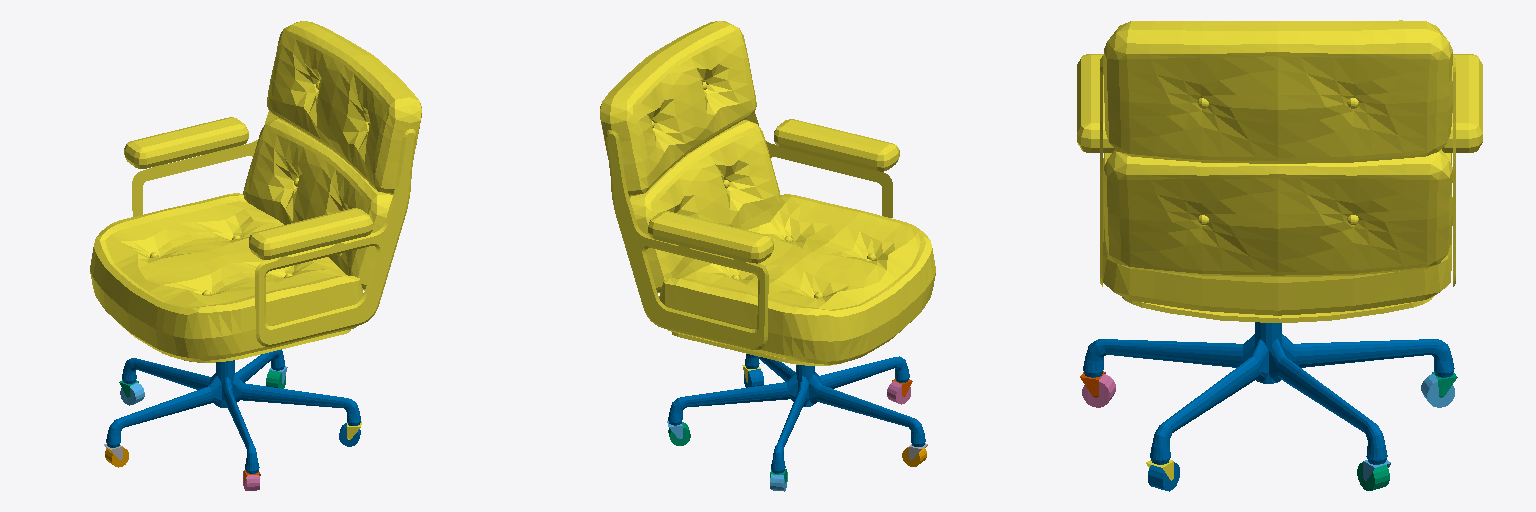
The robot description file, URDF, robot "partnet_a33fcf84726cd862d866e3aa112e4663":
<?xml version="1.0" encoding="utf-8"?>
<robot name="partnet_a33fcf84726cd862d866e3aa112e4663">
 <link name="base"/>
 <link name="link_0">
  <visual name="caster_stem-34">
   <origin xyz="0.26527999999999996 0 0.220503"/>
   <geometry>
    <mesh filename="textured_objs/original-11.obj"/>
   </geometry>
  </visual>
  <collision>
   <geometry>
    <mesh filename="cvx_objs/link_0.obj"/>
   </geometry>
  </collision>
 </link>
 <joint name="joint_0" type="continuous">
  <origin xyz="-0.26527999999999996 0 -0.220503"/>
  <axis xyz="0 1 0"/>
  <child link="link_0"/>
  <parent link="link_11"/>
 </joint>
 <link name="link_1">
  <visual name="wheel-35">
   <origin xyz="0.1804072528569437 0.7323625 0.25773058044729175"/>
   <geometry>
    <mesh filename="textured_objs/original-17.obj"/>
   </geometry>
  </visual>
  <collision>
   <geometry>
    <mesh filename="cvx_objs/link_1.obj"/>
   </geometry>
  </collision>
 </link>
 <joint name="joint_1" type="continuous">
  <origin xyz="0.08487274714305626 -0.7323625 -0.03722758044729174"/>
  <axis xyz="-0.8192381052209088 0 0.5734535089735308"/>
  <child link="link_1"/>
  <parent link="link_0"/>
 </joint>
 <link name="link_2">
  <visual name="caster_stem-32">
   <origin xyz="-0.322162 0 0.220503"/>
   <geometry>
    <mesh filename="textured_objs/original-8.obj"/>
   </geometry>
  </visual>
  <collision>
   <geometry>
    <mesh filename="cvx_objs/link_2.obj"/>
   </geometry>
  </collision>
 </link>
 <joint name="joint_2" type="continuous">
  <origin xyz="0.322162 0 -0.220503"/>
  <axis xyz="0 1 0"/>
  <child link="link_2"/>
  <parent link="link_11"/>
 </joint>
 <link name="link_3">
  <visual name="wheel-33">
   <origin xyz="-0.2110717855963781 0.7323625 0.2814667373530247"/>
   <geometry>
    <mesh filename="textured_objs/original-14.obj"/>
   </geometry>
  </visual>
  <collision>
   <geometry>
    <mesh filename="cvx_objs/link_3.obj"/>
   </geometry>
  </collision>
 </link>
 <joint name="joint_3" type="continuous">
  <origin xyz="-0.1110902144036219 -0.7323625 -0.06096373735302468"/>
  <axis xyz="-0.8000385699131759 0 -0.5999485700051966"/>
  <child link="link_3"/>
  <parent link="link_2"/>
 </joint>
 <link name="link_4">
  <visual name="caster_stem-30">
   <origin xyz="-0.503871 0 -0.338314"/>
   <geometry>
    <mesh filename="textured_objs/original-9.obj"/>
   </geometry>
  </visual>
  <collision>
   <geometry>
    <mesh filename="cvx_objs/link_4.obj"/>
   </geometry>
  </collision>
 </link>
 <joint name="joint_4" type="continuous">
  <origin xyz="0.503871 0 0.338314"/>
  <axis xyz="0 1 0"/>
  <child link="link_4"/>
  <parent link="link_11"/>
 </joint>
 <link name="link_5">
  <visual name="wheel-31">
   <origin xyz="-0.5380192715980543 0.7323625 -0.17933976846705507"/>
   <geometry>
    <mesh filename="textured_objs/original-15.obj"/>
   </geometry>
  </visual>
  <collision>
   <geometry>
    <mesh filename="cvx_objs/link_5.obj"/>
   </geometry>
  </collision>
 </link>
 <joint name="joint_5" type="continuous">
  <origin xyz="0.034148271598054336 -0.7323625 -0.15897423153294493"/>
  <axis xyz="0.3162277660168369 0 -0.9486832980505142"/>
  <child link="link_5"/>
  <parent link="link_4"/>
 </joint>
 <link name="link_6">
  <visual name="caster_stem-28">
   <origin xyz="-0.028440999999999998 0 -0.683685"/>
   <geometry>
    <mesh filename="textured_objs/original-10.obj"/>
   </geometry>
  </visual>
  <collision>
   <geometry>
    <mesh filename="cvx_objs/link_6.obj"/>
   </geometry>
  </collision>
 </link>
 <joint name="joint_6" type="continuous">
  <origin xyz="0.028440999999999998 0 0.683685"/>
  <axis xyz="0 1 0"/>
  <child link="link_6"/>
  <parent link="link_11"/>
 </joint>
 <link name="link_7">
  <visual name="wheel-29">
   <origin xyz="0 0.7323625 -0.665846004274913"/>
   <geometry>
    <mesh filename="textured_objs/original-16.obj"/>
   </geometry>
  </visual>
  <collision>
   <geometry>
    <mesh filename="cvx_objs/link_7.obj"/>
   </geometry>
  </collision>
 </link>
 <joint name="joint_7" type="continuous">
  <origin xyz="-0.028440999999999998 -0.7323625 -0.01783899572508696"/>
  <axis xyz="1 0 0"/>
  <child link="link_7"/>
  <parent link="link_6"/>
 </joint>
 <link name="link_8">
  <visual name="wheel-26">
   <origin xyz="0.48682547228628265 0.7323625 -0.162275167624316"/>
   <geometry>
    <mesh filename="textured_objs/original-18.obj"/>
   </geometry>
  </visual>
  <collision>
   <geometry>
    <mesh filename="cvx_objs/link_8.obj"/>
   </geometry>
  </collision>
 </link>
 <joint name="joint_8" type="continuous">
  <origin xyz="-0.039836472286282676 -0.7323625 -0.176038832375684"/>
  <axis xyz="0.316227766016838 0 0.9486832980505139"/>
  <child link="link_8"/>
  <parent link="link_9"/>
 </joint>
 <link name="link_9">
  <visual name="caster_stem-27">
   <origin xyz="0.44698899999999997 0 -0.338314"/>
   <geometry>
    <mesh filename="textured_objs/original-12.obj"/>
   </geometry>
  </visual>
  <collision>
   <geometry>
    <mesh filename="cvx_objs/link_9.obj"/>
   </geometry>
  </collision>
 </link>
 <joint name="joint_9" type="continuous">
  <origin xyz="-0.44698899999999997 0 0.338314"/>
  <axis xyz="0 1 0"/>
  <child link="link_9"/>
  <parent link="link_11"/>
 </joint>
 <link name="link_10">
  <visual name="back_soft_surface-54">
   <origin xyz="-0.026605842262506466 0 -0.18576659771800028"/>
   <geometry>
    <mesh filename="textured_objs/original-28.obj"/>
   </geometry>
  </visual>
  <visual name="back_soft_surface-54">
   <origin xyz="-0.026605842262506466 0 -0.18576659771800028"/>
   <geometry>
    <mesh filename="textured_objs/original-29.obj"/>
   </geometry>
  </visual>
  <visual name="back_soft_surface-54">
   <origin xyz="-0.026605842262506466 0 -0.18576659771800028"/>
   <geometry>
    <mesh filename="textured_objs/original-30.obj"/>
   </geometry>
  </visual>
  <visual name="back_soft_surface-54">
   <origin xyz="-0.026605842262506466 0 -0.18576659771800028"/>
   <geometry>
    <mesh filename="textured_objs/original-41.obj"/>
   </geometry>
  </visual>
  <visual name="back_soft_surface-54">
   <origin xyz="-0.026605842262506466 0 -0.18576659771800028"/>
   <geometry>
    <mesh filename="textured_objs/original-33.obj"/>
   </geometry>
  </visual>
  <visual name="back_soft_surface-54">
   <origin xyz="-0.026605842262506466 0 -0.18576659771800028"/>
   <geometry>
    <mesh filename="textured_objs/original-38.obj"/>
   </geometry>
  </visual>
  <visual name="back_soft_surface-54">
   <origin xyz="-0.026605842262506466 0 -0.18576659771800028"/>
   <geometry>
    <mesh filename="textured_objs/original-31.obj"/>
   </geometry>
  </visual>
  <visual name="back_soft_surface-54">
   <origin xyz="-0.026605842262506466 0 -0.18576659771800028"/>
   <geometry>
    <mesh filename="textured_objs/original-40.obj"/>
   </geometry>
  </visual>
  <visual name="back_soft_surface-54">
   <origin xyz="-0.026605842262506466 0 -0.18576659771800028"/>
   <geometry>
    <mesh filename="textured_objs/original-39.obj"/>
   </geometry>
  </visual>
  <visual name="back_soft_surface-54">
   <origin xyz="-0.026605842262506466 0 -0.18576659771800028"/>
   <geometry>
    <mesh filename="textured_objs/original-32.obj"/>
   </geometry>
  </visual>
  <visual name="back_frame_vertical_bar-50">
   <origin xyz="-0.026605842262506466 0 -0.18576659771800028"/>
   <geometry>
    <mesh filename="textured_objs/new-9.obj"/>
   </geometry>
  </visual>
  <visual name="back_frame_vertical_bar-51">
   <origin xyz="-0.026605842262506466 0 -0.18576659771800028"/>
   <geometry>
    <mesh filename="textured_objs/new-11.obj"/>
   </geometry>
  </visual>
  <visual name="armrest_soft_surface-45">
   <origin xyz="-0.026605842262506466 0 -0.18576659771800028"/>
   <geometry>
    <mesh filename="textured_objs/original-23.obj"/>
   </geometry>
  </visual>
  <visual name="arm_vertical_bar-46">
   <origin xyz="-0.026605842262506466 0 -0.18576659771800028"/>
   <geometry>
    <mesh filename="textured_objs/new-13.obj"/>
   </geometry>
  </visual>
  <visual name="arm_horizontal_bar-47">
   <origin xyz="-0.026605842262506466 0 -0.18576659771800028"/>
   <geometry>
    <mesh filename="textured_objs/new-12.obj"/>
   </geometry>
  </visual>
  <visual name="arm_horizontal_bar-47">
   <origin xyz="-0.026605842262506466 0 -0.18576659771800028"/>
   <geometry>
    <mesh filename="textured_objs/original-25.obj"/>
   </geometry>
  </visual>
  <visual name="arm_horizontal_bar-47">
   <origin xyz="-0.026605842262506466 0 -0.18576659771800028"/>
   <geometry>
    <mesh filename="textured_objs/original-24.obj"/>
   </geometry>
  </visual>
  <visual name="armrest_soft_surface-42">
   <origin xyz="-0.026605842262506466 0 -0.18576659771800028"/>
   <geometry>
    <mesh filename="textured_objs/original-22.obj"/>
   </geometry>
  </visual>
  <visual name="arm_vertical_bar-43">
   <origin xyz="-0.026605842262506466 0 -0.18576659771800028"/>
   <geometry>
    <mesh filename="textured_objs/new-7.obj"/>
   </geometry>
  </visual>
  <visual name="arm_horizontal_bar-44">
   <origin xyz="-0.026605842262506466 0 -0.18576659771800028"/>
   <geometry>
    <mesh filename="textured_objs/new-8.obj"/>
   </geometry>
  </visual>
  <visual name="seat_soft_surface-38">
   <origin xyz="-0.026605842262506466 0 -0.18576659771800028"/>
   <geometry>
    <mesh filename="textured_objs/original-34.obj"/>
   </geometry>
  </visual>
  <visual name="seat_soft_surface-38">
   <origin xyz="-0.026605842262506466 0 -0.18576659771800028"/>
   <geometry>
    <mesh filename="textured_objs/original-35.obj"/>
   </geometry>
  </visual>
  <visual name="seat_soft_surface-38">
   <origin xyz="-0.026605842262506466 0 -0.18576659771800028"/>
   <geometry>
    <mesh filename="textured_objs/original-36.obj"/>
   </geometry>
  </visual>
  <visual name="seat_soft_surface-38">
   <origin xyz="-0.026605842262506466 0 -0.18576659771800028"/>
   <geometry>
    <mesh filename="textured_objs/original-37.obj"/>
   </geometry>
  </visual>
  <visual name="seat_soft_surface-38">
   <origin xyz="-0.026605842262506466 0 -0.18576659771800028"/>
   <geometry>
    <mesh filename="textured_objs/original-20.obj"/>
   </geometry>
  </visual>
  <visual name="seat_support-37">
   <origin xyz="-0.026605842262506466 0 -0.18576659771800028"/>
   <geometry>
    <mesh filename="textured_objs/original-42.obj"/>
   </geometry>
  </visual>
  <visual name="seat_frame_vertical_bar-40">
   <origin xyz="-0.026605842262506466 0 -0.18576659771800028"/>
   <geometry>
    <mesh filename="textured_objs/new-10.obj"/>
   </geometry>
  </visual>
  <visual name="seat_frame_vertical_bar-41">
   <origin xyz="-0.026605842262506466 0 -0.18576659771800028"/>
   <geometry>
    <mesh filename="textured_objs/new-6.obj"/>
   </geometry>
  </visual>
  <visual name="central_support-11">
   <origin xyz="-0.026605842262506466 0 -0.18576659771800028"/>
   <geometry>
    <mesh filename="textured_objs/original-7.obj"/>
   </geometry>
  </visual>
  <visual name="seat_connector-13">
   <origin xyz="-0.026605842262506466 0 -0.18576659771800028"/>
   <geometry>
    <mesh filename="textured_objs/original-21.obj"/>
   </geometry>
  </visual>
  <collision>
   <geometry>
    <mesh filename="cvx_objs/link_10.obj"/>
   </geometry>
  </collision>
 </link>
 <joint name="joint_10" type="continuous">
  <origin xyz="0.0 0 0.0"/>
  <axis xyz="0 1 0"/>
  <child link="link_10"/>
  <parent link="link_10_helper"/>
 </joint>
 <link name="link_11">
  <visual name="central_support-10">
   <origin xyz="0 0 0"/>
   <geometry>
    <mesh filename="textured_objs/new-5.obj"/>
   </geometry>
  </visual>
  <visual name="leg-14">
   <origin xyz="0 0 0"/>
   <geometry>
    <mesh filename="textured_objs/new-4.obj"/>
   </geometry>
  </visual>
  <visual name="leg-15">
   <origin xyz="0 0 0"/>
   <geometry>
    <mesh filename="textured_objs/new-3.obj"/>
   </geometry>
  </visual>
  <visual name="leg-16">
   <origin xyz="0 0 0"/>
   <geometry>
    <mesh filename="textured_objs/new-2.obj"/>
   </geometry>
  </visual>
  <visual name="leg-17">
   <origin xyz="0 0 0"/>
   <geometry>
    <mesh filename="textured_objs/new-1.obj"/>
   </geometry>
  </visual>
  <visual name="leg-18">
   <origin xyz="0 0 0"/>
   <geometry>
    <mesh filename="textured_objs/new-0.obj"/>
   </geometry>
  </visual>
  <collision>
   <geometry>
    <mesh filename="cvx_objs/link_11.obj"/>
   </geometry>
  </collision>
 </link>
 <joint name="joint_11" type="fixed">
  <origin rpy="1.570796326794897 0 -1.570796326794897" xyz="0 0 0"/>
  <child link="link_11"/>
  <parent link="base"/>
 </joint>
 <link name="link_10_helper"/>
 <joint name="joint_12" type="prismatic">
  <origin xyz="0.026605842262506466 0 0.18576659771800028"/>
  <axis xyz="0 -1 0"/>
  <child link="link_10_helper"/>
  <parent link="link_11"/>
  <limit lower="0" upper="0.06000000000000005"/>
 </joint>
</robot>

--- What the picture shows (computed from the rendered views, not written in the file) ---
3 views of the same robot in one strip: view 1: azimuth 30°, elevation 25°; view 2: azimuth 150°, elevation 25°; view 3: azimuth 270°, elevation 25° (orthographic).
Model partnet_a33fcf84726cd862d866e3aa112e4663 with 14 links and 13 joints (11 continuous, 1 prismatic, 1 fixed), rooted at base, posed all joints at 0.
Links seen in each view (by area): view 1: link_10, link_11; view 2: link_10, link_11; view 3: link_10, link_11, link_8, link_5, link_3, link_1.
Link boxes in pixels (x1,y1,x2,y2): link_10: (90,21,421,362); link_11: (106,349,360,473); link_10: (600,21,935,365); link_11: (668,354,925,473); link_10: (1077,20,1482,322); link_11: (1083,322,1454,464); link_8: (1421,374,1454,407); link_5: (1082,374,1115,407); link_3: (1148,462,1179,491); link_1: (1357,462,1389,490).
Size in the robot's own frame: 1.22 by 1.1 by 1.48 metres.
46 mesh visuals loaded from 46 distinct referenced files (46 OBJ).
